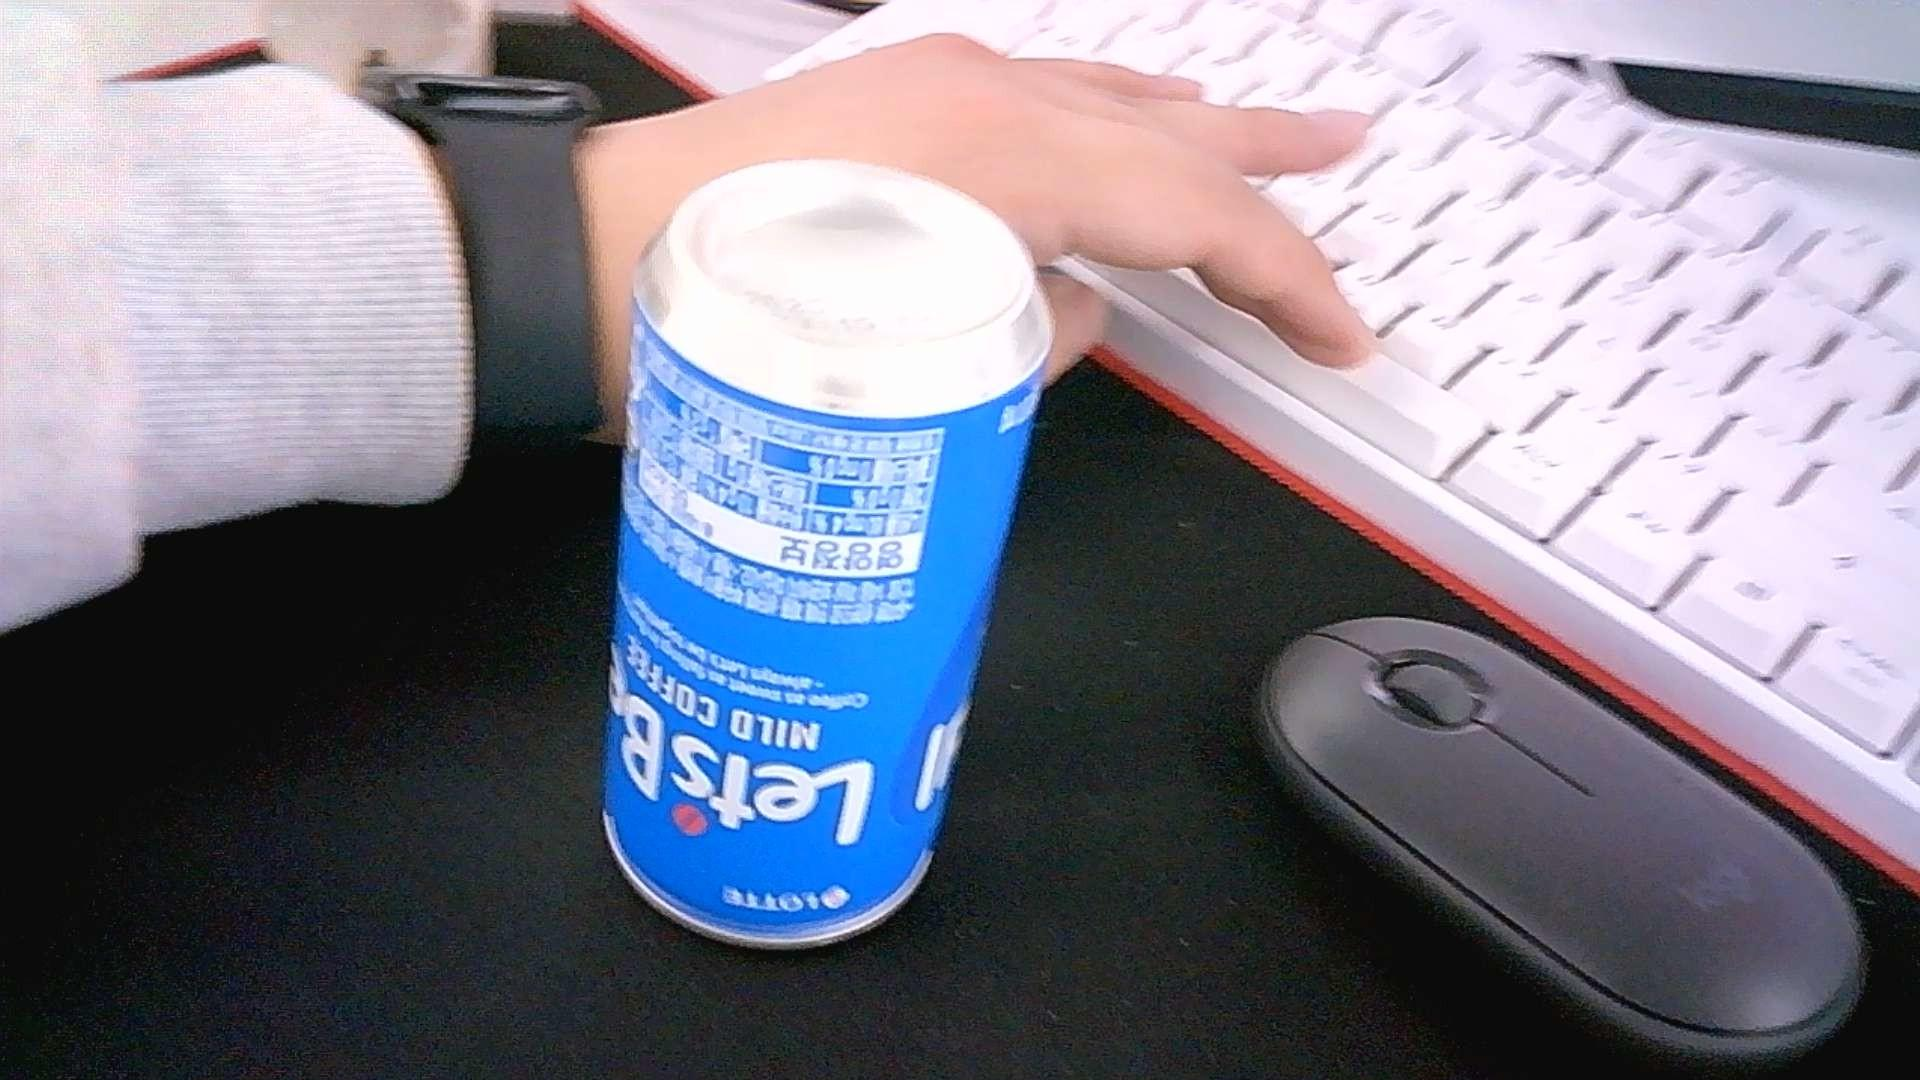letsbe: (599, 158, 1056, 952)
